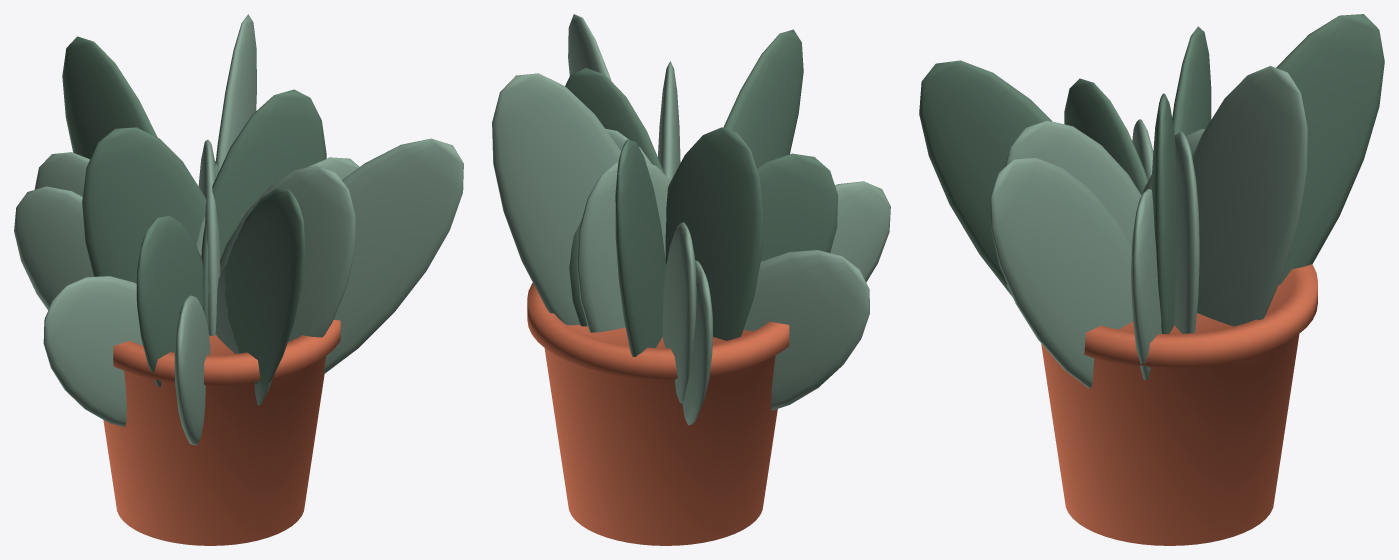
Rendered from plant.glb.
3 views of the same model, side by side, from view 1: azimuth 30°, elevation 25°; view 2: azimuth 150°, elevation 25°; view 3: azimuth 270°, elevation 25° (orthographic). The views are drawn at different scales.
Visible parts, largest first — view 1: Pot, Leaf.005, Leaf.009, Leaf.015, Leaf.004, Leaf, Leaf.010, Leaf.012, Leaf.014, Leaf.006, Leaf.007, Leaf.016 (+5 smaller); view 2: Pot, Leaf.016, Leaf.009, Leaf.004, Leaf.006, Leaf.012, Leaf.015, Leaf.011, Leaf.001, Leaf.007, Leaf, Leaf.014 (+3 smaller); view 3: Pot, Leaf.016, Leaf.005, Leaf.006, Leaf.015, Leaf.010, Leaf, Leaf.008, Leaf.013, Leaf.012, Leaf.009, Leaf.004.
Part boxes in pixels (left/top/right/bottom): Pot: left=103, top=320, right=340, bottom=545; Leaf.005: left=324, top=138, right=463, bottom=373; Leaf.009: left=82, top=127, right=206, bottom=283; Leaf.015: left=224, top=188, right=305, bottom=386; Leaf.004: left=43, top=276, right=142, bottom=426; Leaf: left=212, top=89, right=326, bottom=258; Leaf.010: left=220, top=165, right=355, bottom=341; Leaf.012: left=136, top=215, right=203, bottom=386; Leaf.014: left=14, top=186, right=93, bottom=310; Leaf.006: left=62, top=36, right=157, bottom=158; Leaf.007: left=174, top=295, right=210, bottom=445; Leaf.016: left=215, top=14, right=256, bottom=171; Pot: left=527, top=283, right=789, bottom=545; Leaf.016: left=492, top=73, right=621, bottom=325; Leaf.009: left=665, top=127, right=763, bottom=340; Leaf.004: left=743, top=250, right=869, bottom=410; Leaf.006: left=615, top=139, right=666, bottom=356; Leaf.012: left=756, top=153, right=837, bottom=261; Leaf.015: left=723, top=29, right=803, bottom=167; Leaf.011: left=576, top=161, right=670, bottom=332; Leaf.001: left=662, top=222, right=696, bottom=403; Leaf.007: left=830, top=181, right=890, bottom=282; Leaf: left=565, top=68, right=664, bottom=174; Leaf.014: left=682, top=260, right=712, bottom=425; Pot: left=1041, top=264, right=1317, bottom=545; Leaf.016: left=1192, top=66, right=1307, bottom=326; Leaf.005: left=990, top=157, right=1132, bottom=388; Leaf.006: left=1276, top=14, right=1384, bottom=284; Leaf.015: left=919, top=60, right=1052, bottom=296; Leaf.010: left=1005, top=120, right=1141, bottom=243; Leaf: left=1151, top=93, right=1176, bottom=334; Leaf.008: left=1174, top=131, right=1199, bottom=333; Leaf.013: left=1131, top=189, right=1161, bottom=379; Leaf.012: left=1064, top=78, right=1147, bottom=195; Leaf.009: left=1172, top=26, right=1211, bottom=135; Leaf.004: left=1132, top=119, right=1153, bottom=180.
Size of the model in its own units: 0.2393 by 0.2776 by 0.2449.
